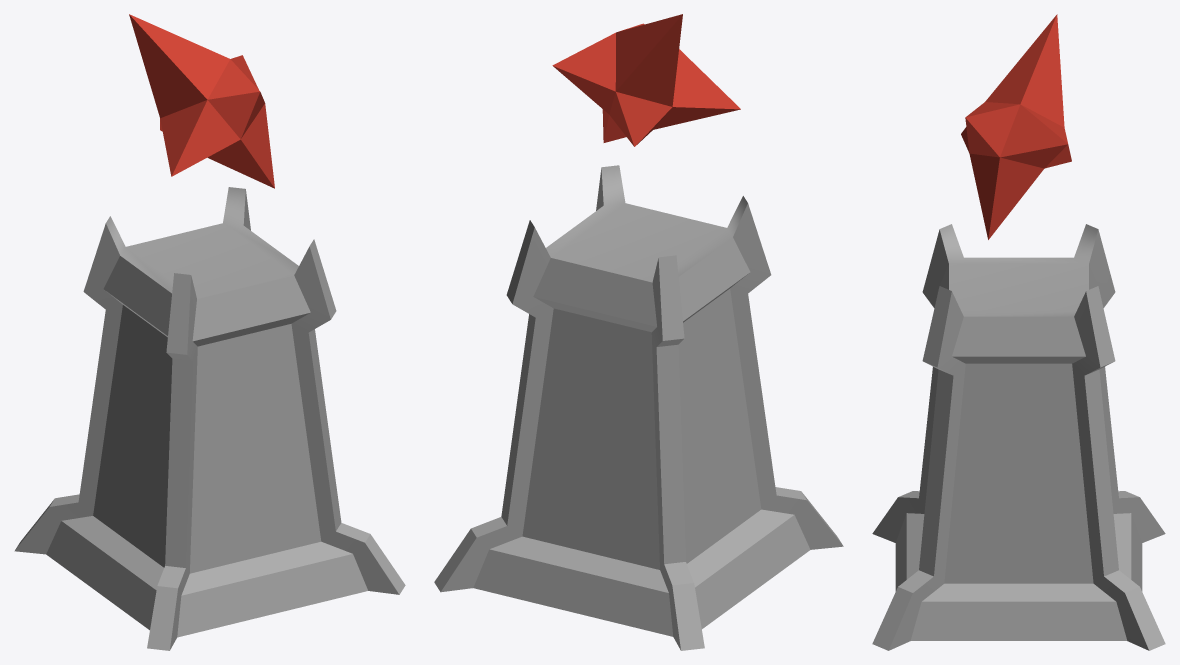
File: SM_Tower_Damage.fbx
3 views of the same model, side by side, from view 1: azimuth 30°, elevation 25°; view 2: azimuth 150°, elevation 25°; view 3: azimuth 270°, elevation 25° (orthographic). The views are drawn at different scales.
Visible parts, largest first — view 1: Tower_Damage, Crystal_Damage; view 2: Tower_Damage, Crystal_Damage; view 3: Tower_Damage, Crystal_Damage.
Part boxes in pixels (box(x1,y1,x2,y2)): Tower_Damage: box(14, 187, 405, 650); Crystal_Damage: box(129, 14, 274, 188); Tower_Damage: box(434, 165, 843, 650); Crystal_Damage: box(552, 14, 740, 146); Tower_Damage: box(872, 224, 1165, 650); Crystal_Damage: box(961, 14, 1071, 239).
Size of the model in its own units: 118 by 243 by 118.
